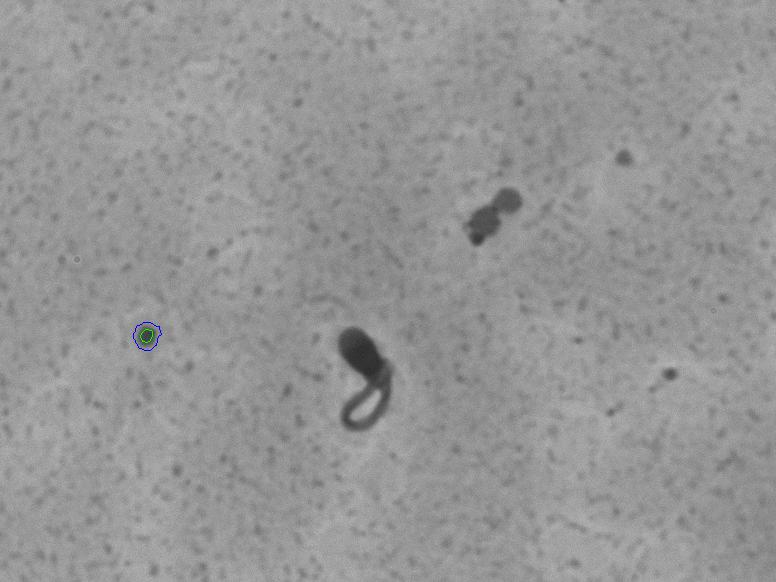Abnormal: (292, 299, 444, 467)
